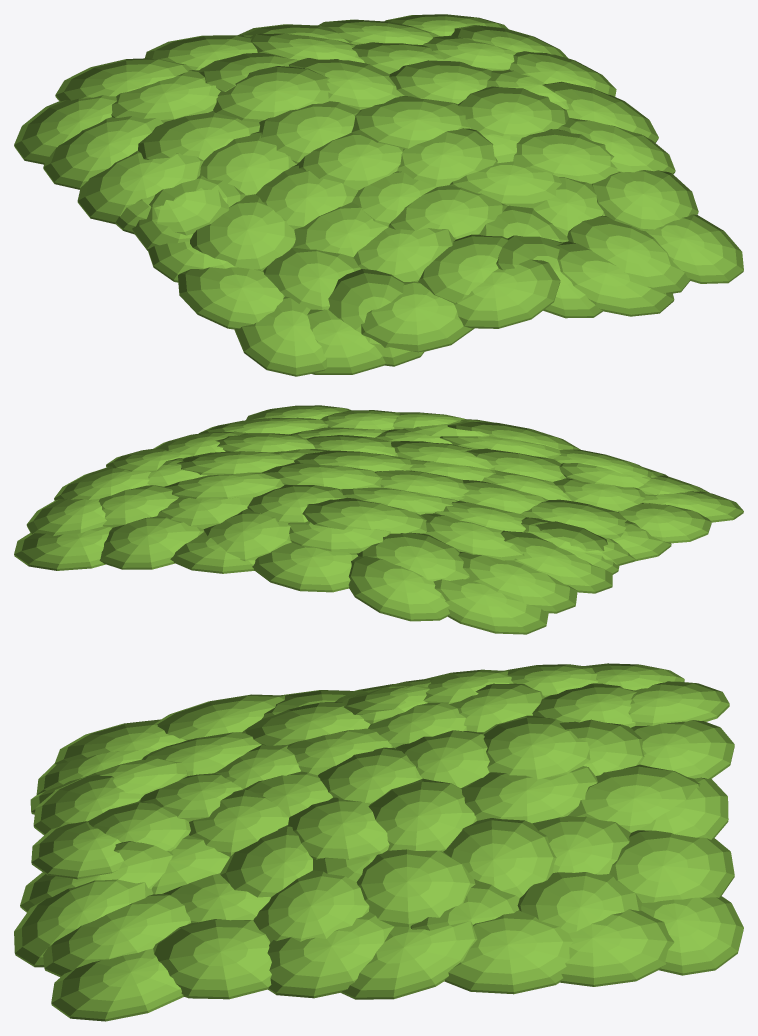
Rendered from Hill.fbx.
The picture shows the model from 3 angles, top to bottom: view 1: azimuth 30°, elevation 25°; view 2: azimuth 150°, elevation 25°; view 3: azimuth 270°, elevation 25°; orthographic projection. The views are drawn at different scales.
Parts seen in each view (by area): view 1: mesh_1636737852, mesh_297582207, mesh_1906807155, mesh_865739822, mesh_451706468, mesh_980126175, mesh_1354319372, mesh_1559758545, mesh_41769343, mesh_1249356846, mesh_2070998549, mesh_393972282 (+43 smaller); view 2: mesh_1346735670, mesh_1142043751, mesh_110023556, mesh_1100684487, mesh_41769343, mesh_26550191, mesh_451706468, mesh_2105072989, mesh_1249356846, mesh_954708985, mesh_1423669044, mesh_865739822 (+42 smaller); view 3: mesh_980126175, mesh_1291751727, mesh_110023556, mesh_242015095, mesh_393972282, mesh_127579588, mesh_949506570, mesh_1474561242, mesh_1354319372, mesh_913049152, mesh_120558312, mesh_2105072989 (+43 smaller).
Part boxes in pixels (box(x1,y1,x2,y2)): mesh_1636737852: box(190, 194, 295, 270); mesh_297582207: box(454, 259, 560, 328); mesh_1906807155: box(361, 281, 474, 352); mesh_865739822: box(178, 267, 284, 329); mesh_451706468: box(77, 151, 203, 224); mesh_980126175: box(592, 170, 698, 231); mesh_1354319372: box(567, 215, 690, 293); mesh_1559758545: box(234, 296, 327, 376); mesh_41769343: box(43, 116, 165, 189); mesh_1249356846: box(213, 66, 330, 122); mesh_2070998549: box(556, 241, 674, 316); mesh_393972282: box(646, 214, 743, 283); mesh_1346735670: box(348, 556, 449, 621); mesh_1142043751: box(433, 578, 548, 634); mesh_110023556: box(99, 516, 204, 569); mesh_1100684487: box(252, 542, 357, 592); mesh_41769343: box(458, 551, 577, 613); mesh_26550191: box(357, 532, 469, 581); mesh_451706468: box(500, 530, 612, 593); mesh_2105072989: box(14, 526, 112, 570); mesh_1249356846: box(302, 497, 426, 533); mesh_954708985: box(203, 508, 291, 561); mesh_1423669044: box(421, 513, 524, 560); mesh_865739822: box(618, 503, 711, 543); mesh_980126175: box(153, 919, 271, 999); mesh_1291751727: box(444, 910, 573, 994); mesh_110023556: box(609, 830, 734, 902); mesh_242015095: box(356, 849, 475, 926); mesh_393972282: box(51, 948, 183, 1021); mesh_127579588: box(267, 912, 394, 998); mesh_949506570: box(560, 909, 674, 986); mesh_1474561242: box(341, 921, 477, 999); mesh_1354319372: box(43, 894, 190, 977); mesh_913049152: box(443, 818, 556, 897); mesh_120558312: box(253, 870, 369, 941); mesh_2105072989: box(641, 896, 743, 975).
Bounding box in the file's own units: 989 × 182 × 992.
